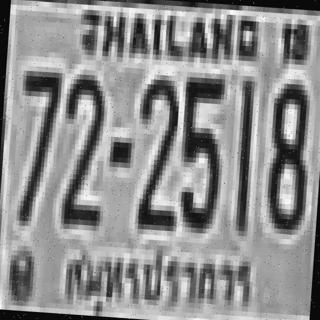N01: (230, 75, 255, 231)
N02: (58, 68, 107, 226), (133, 71, 182, 228)
N05: (175, 72, 224, 229)
N07: (12, 65, 61, 222)
N08: (262, 78, 311, 230)
P57: (58, 233, 258, 320)
